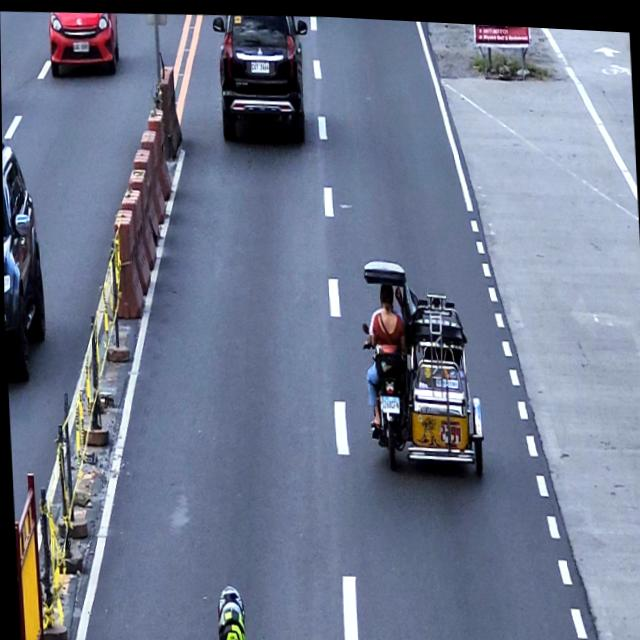Car: (211, 9, 313, 143), (2, 136, 46, 382), (47, 9, 120, 78)
License-Plate: (380, 391, 399, 411), (250, 57, 269, 71), (72, 38, 89, 51)
Tricycle: (357, 250, 484, 475)
